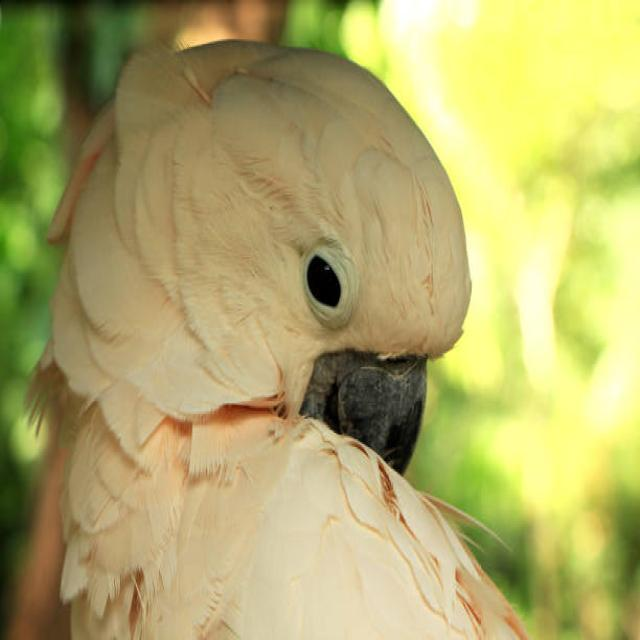Kakatua Putih: (14, 8, 562, 640)
